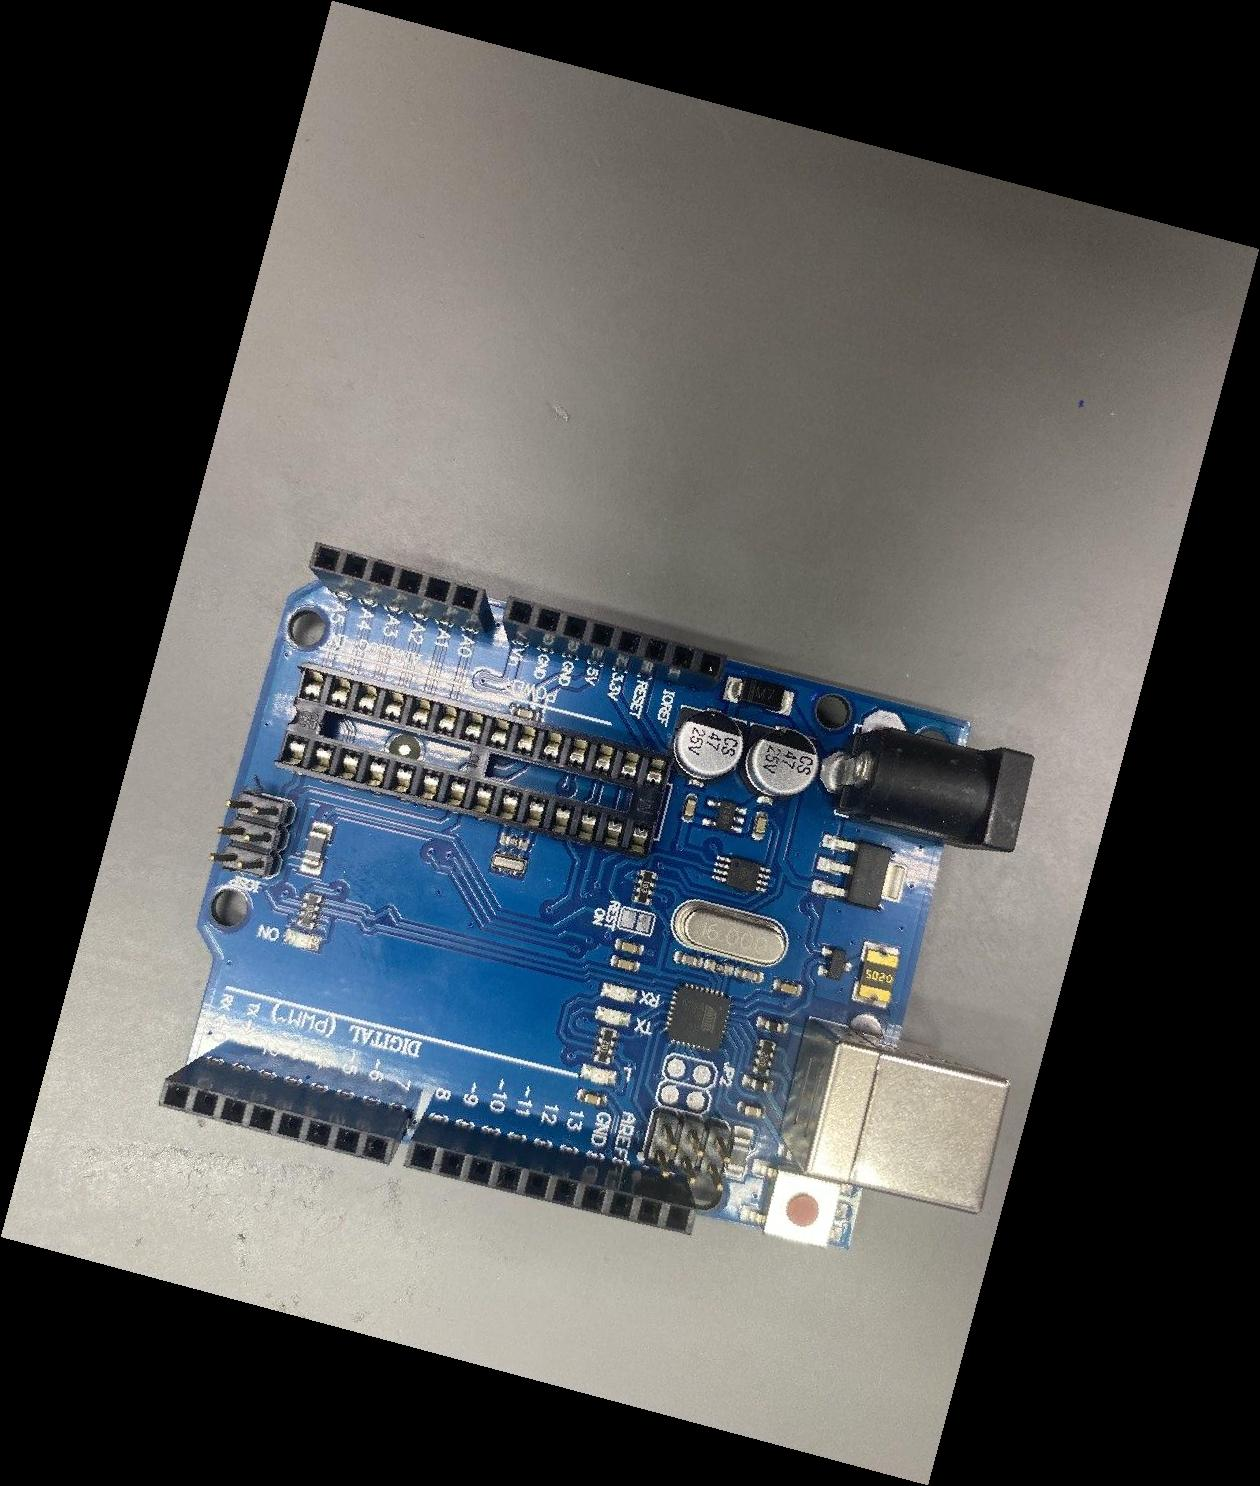Arduino board: (158, 540, 1035, 1249)
USB: (779, 1016, 1011, 1216)
capacitor: (667, 704, 748, 784), (739, 721, 818, 798)
pins: (403, 1116, 697, 1236), (157, 1056, 413, 1165), (502, 595, 727, 693), (308, 541, 495, 634)
resistor: (593, 1037, 936, 1078), (434, 1026, 776, 1067), (139, 891, 480, 931), (474, 868, 816, 907)
